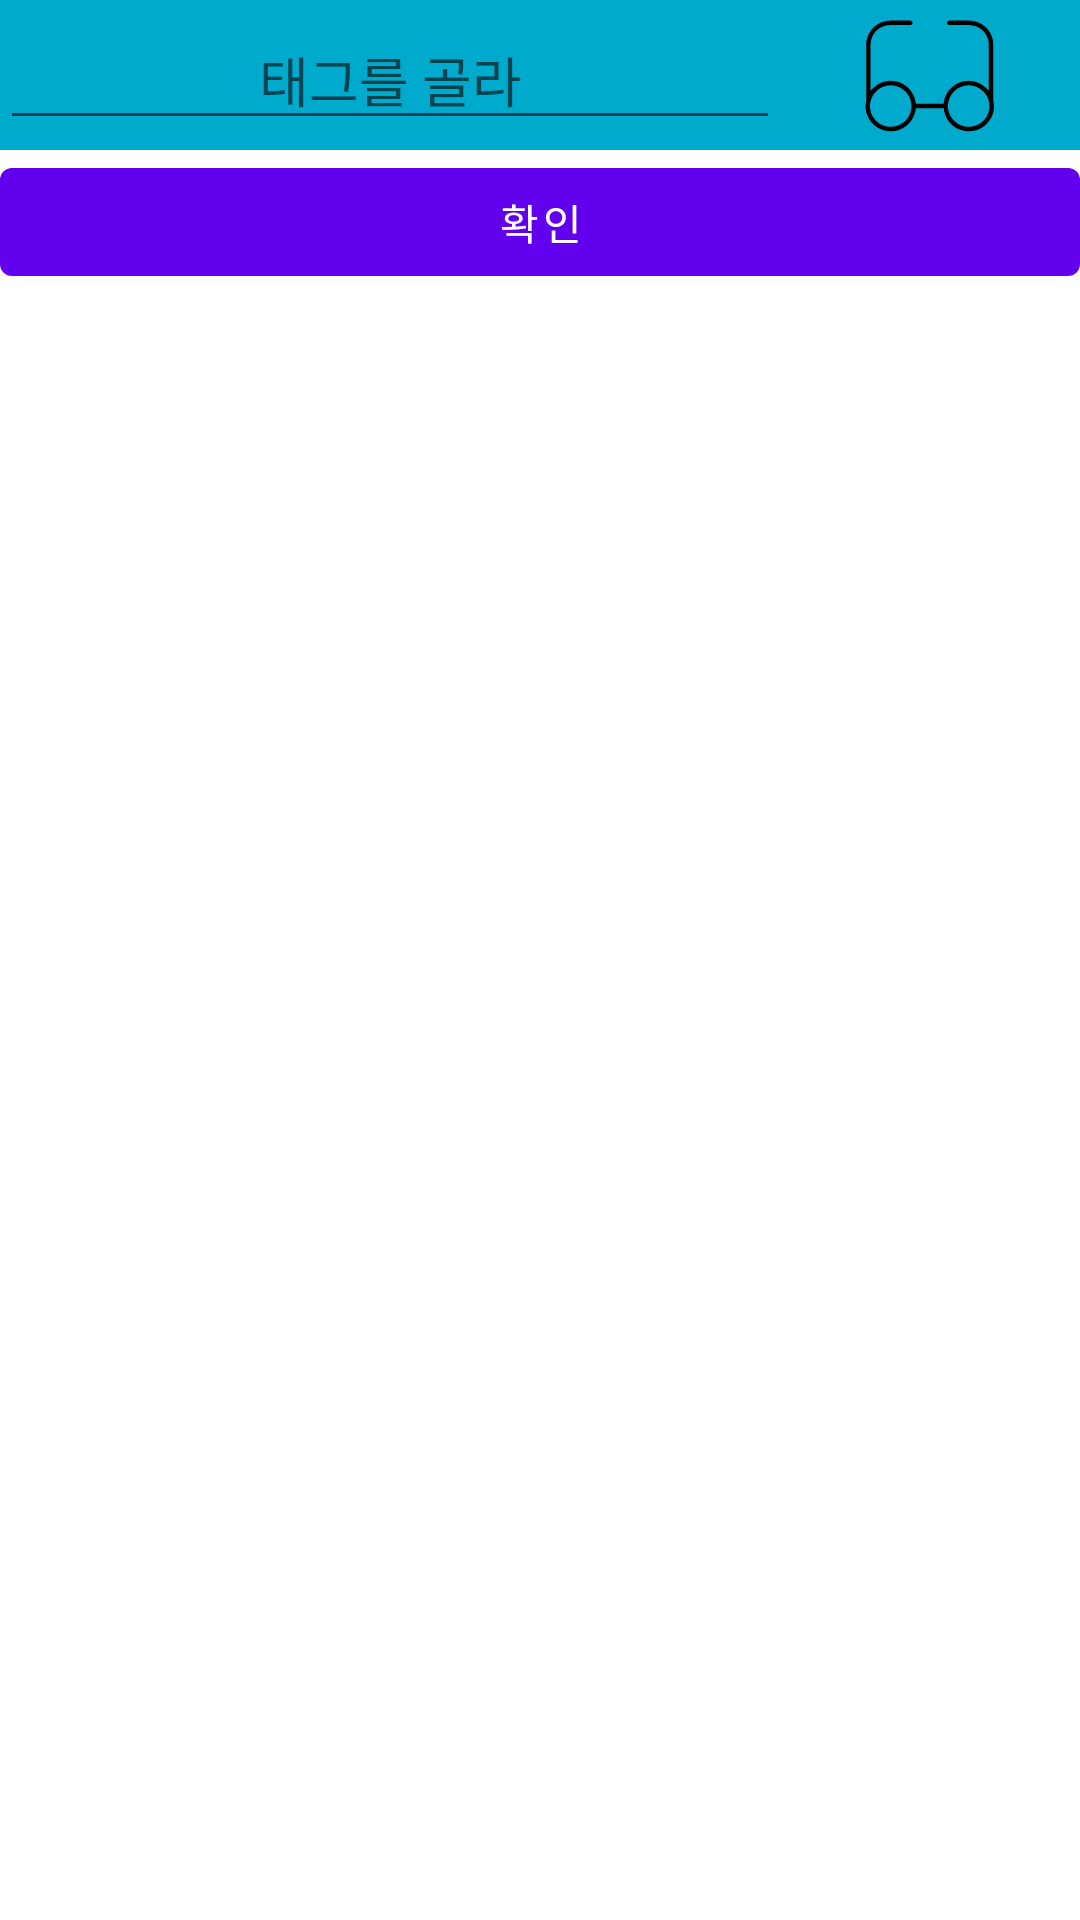

Screen size 1080*1920. Icon name, then its box in pixels as (x1, y1, x2, y2):
tilda 1ed glasses: (865, 20, 994, 132)
